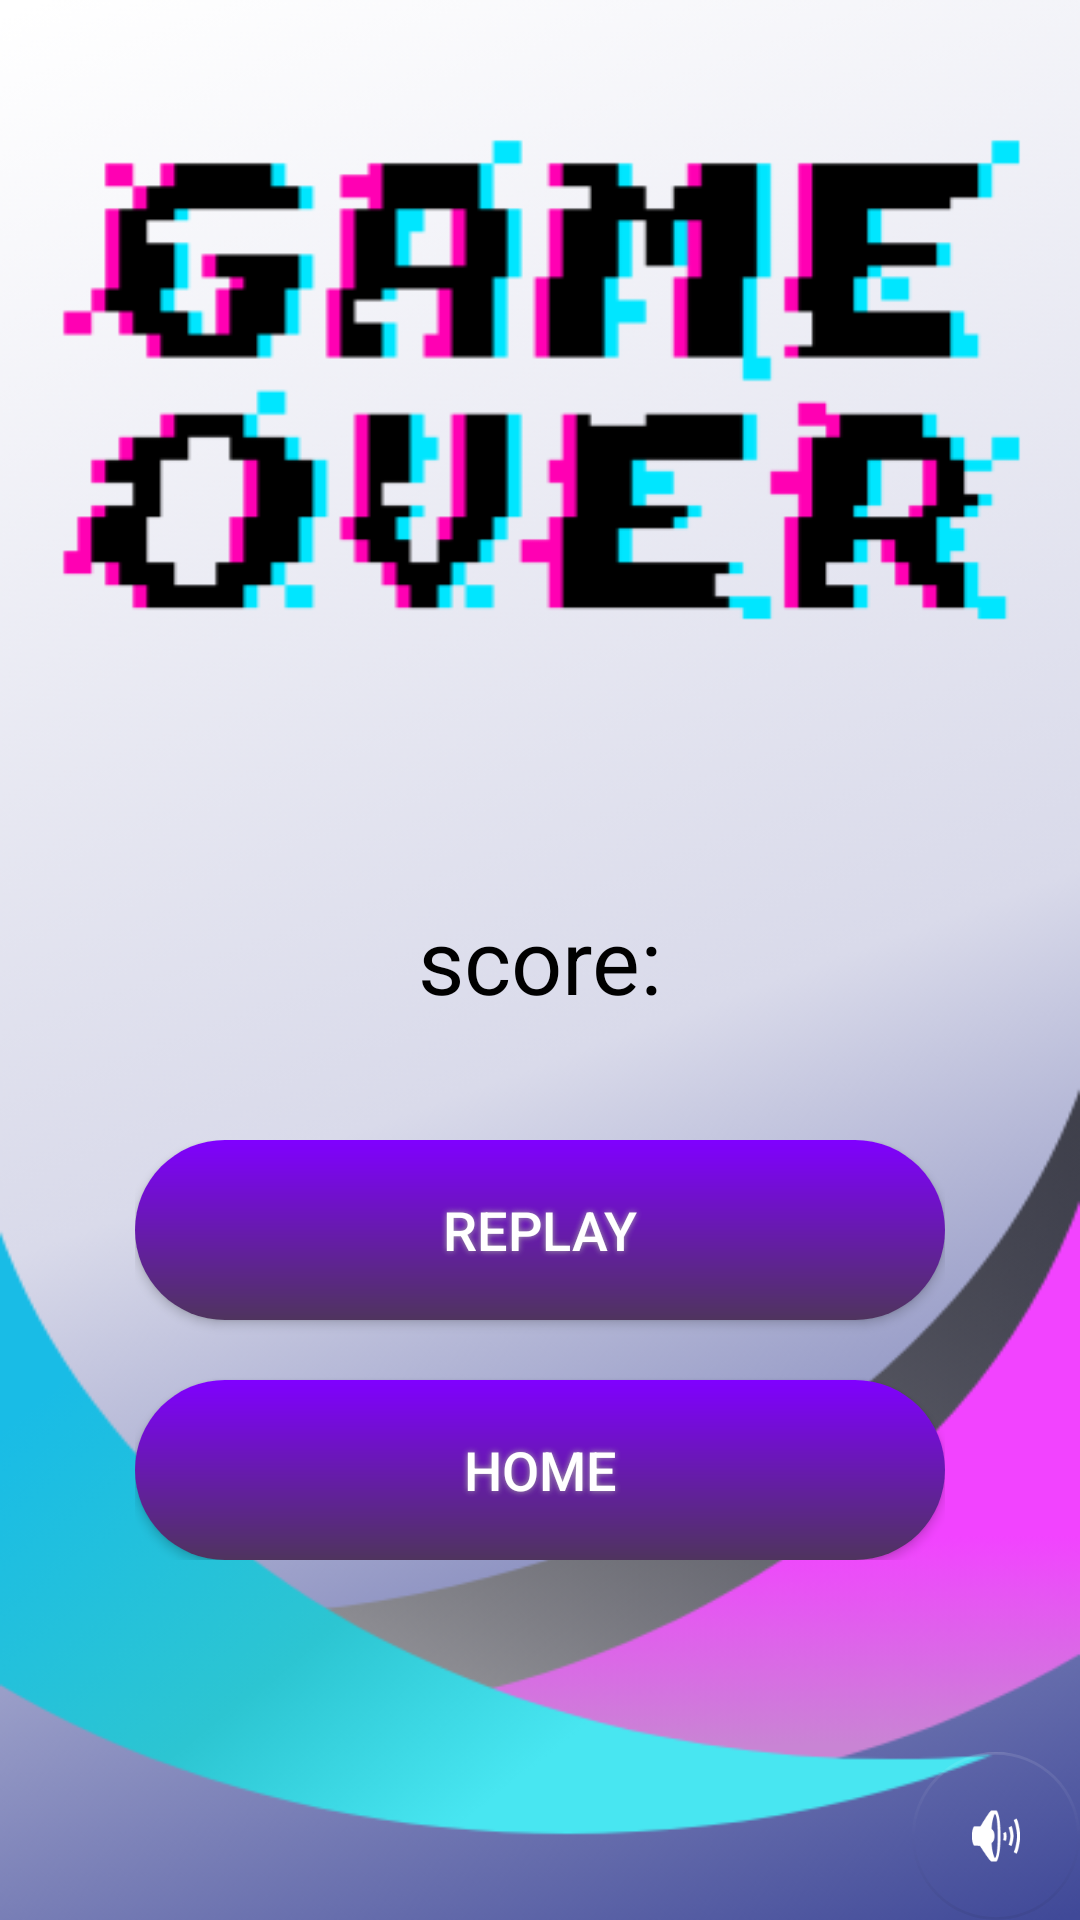

Screen size 1080x1920. Icon name, then its center in pixels as [x,y]:
lock silent mode off: [1019,1836]
